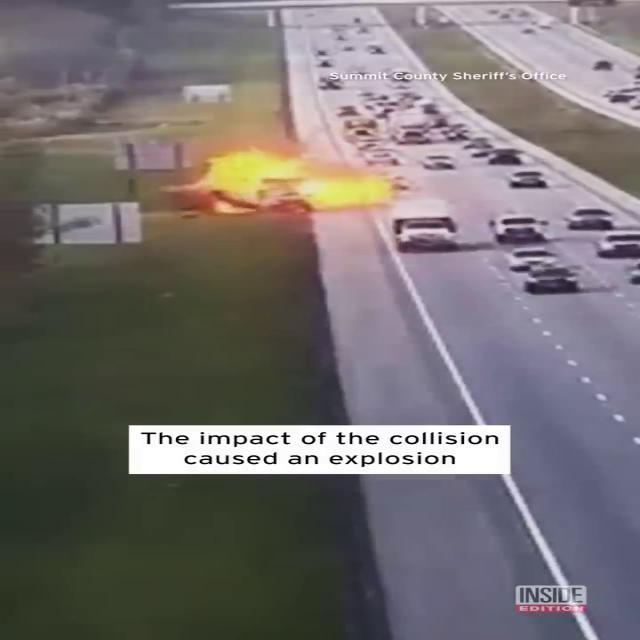Fire: (192, 146, 396, 210)
